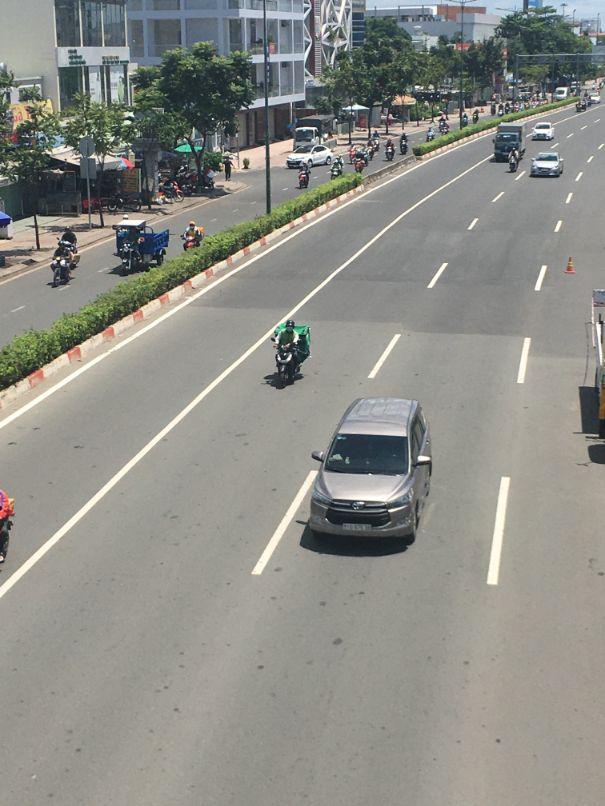car: (306, 395, 437, 547), (289, 144, 339, 170), (532, 151, 565, 178), (532, 121, 556, 142), (0, 209, 11, 239)
motorbike: (271, 344, 308, 386), (0, 491, 15, 570), (49, 251, 79, 288)
truck: (494, 126, 524, 167)
